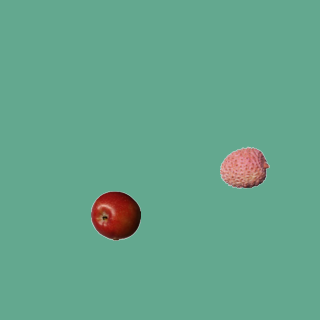Apple Braeburn: (90, 190, 140, 240)
Lychee: (219, 142, 269, 192)
